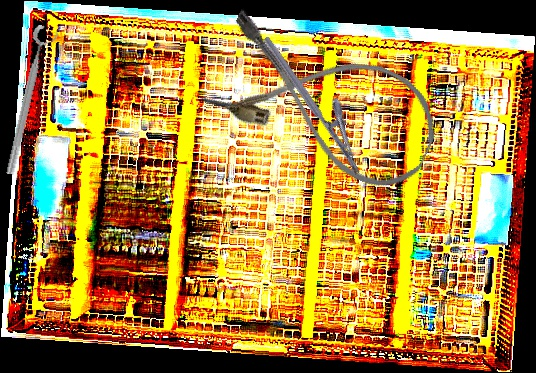Cannula: (197, 2, 452, 202)
Fixation Ring: (1, 24, 61, 178)
Needle Holder: (262, 22, 380, 177)
